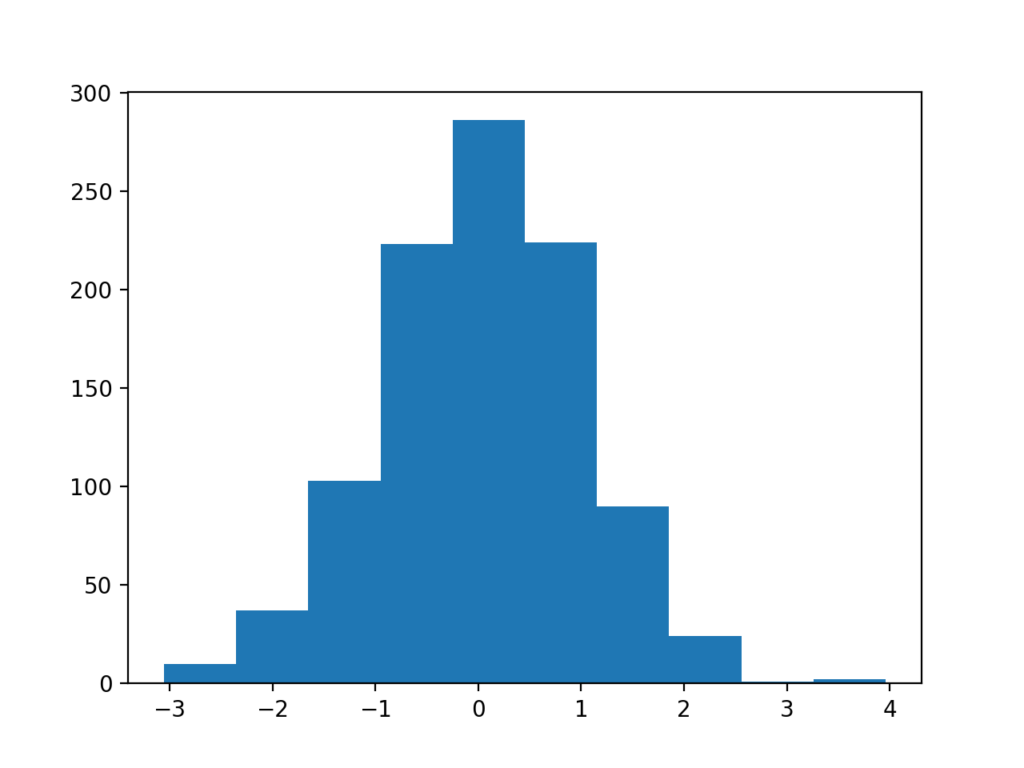canvas: (141, 115, 901, 683)
x-axis: (106, 678, 927, 698)
x-labels: (145, 696, 913, 739)
y-axis: (116, 86, 132, 696)
y-labels: (66, 80, 116, 694)
